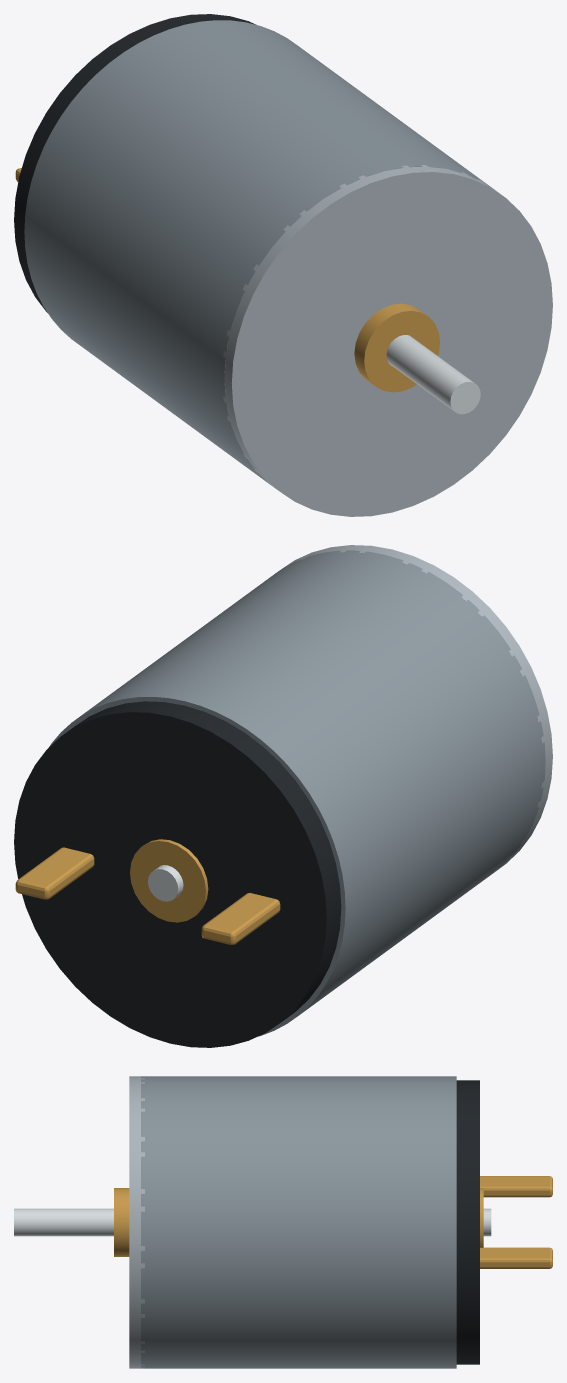
Rendered from 13_Small_DC_Motor.glb.
3 renders of one model, top to bottom at view 1: azimuth 30°, elevation 25°; view 2: azimuth 150°, elevation 25°; view 3: azimuth 270°, elevation 25°, orthographic. The views are drawn at different scales.
Parts seen in each view (by area): view 1: 01_steel_motor_can, 02_end_caps_and_terminals, 08_shaft_and_sintered_bearings; view 2: 01_steel_motor_can, 02_end_caps_and_terminals, 08_shaft_and_sintered_bearings; view 3: 01_steel_motor_can, 02_end_caps_and_terminals, 08_shaft_and_sintered_bearings.
Part boxes in pixels (x1,y1,x2,y2): 01_steel_motor_can: (24,20,494,484); 02_end_caps_and_terminals: (14,14,552,516); 08_shaft_and_sintered_bearings: (354,303,480,414); 01_steel_motor_can: (49,550,545,1036); 02_end_caps_and_terminals: (14,545,552,1047); 08_shaft_and_sintered_bearings: (130,839,208,922); 01_steel_motor_can: (141,1076,456,1368); 02_end_caps_and_terminals: (129,1076,552,1368); 08_shaft_and_sintered_bearings: (14,1188,491,1256).
Bounding box in the file's own units: 0.038 × 0.038 × 0.07.
